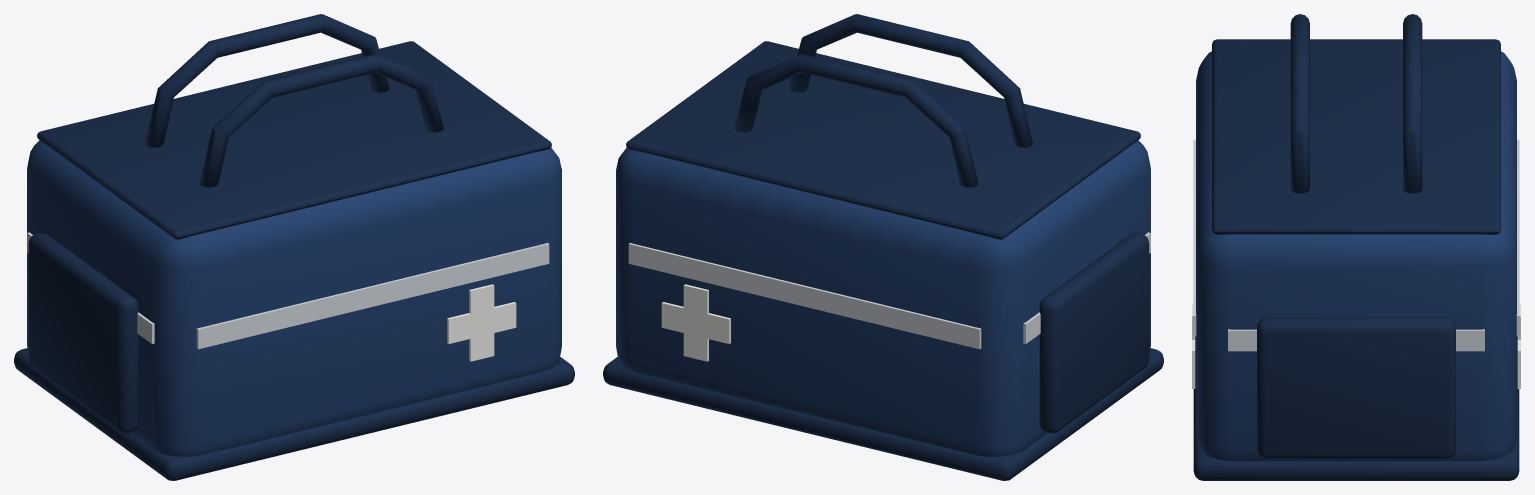
The model's file is bag.glb.
The picture shows the model from 3 angles, left to right: view 1: azimuth 30°, elevation 25°; view 2: azimuth 150°, elevation 25°; view 3: azimuth 270°, elevation 25°; orthographic projection. The views are drawn at different scales.
Visible parts, largest first — view 1: bag; view 2: bag; view 3: bag.
Part boxes in pixels (x1,y1,x2,y2): bag: (14,14,574,480); bag: (603,14,1163,480); bag: (1192,14,1520,480).
Bounding box in the file's own units: 0.654 × 0.4665 × 0.41.
